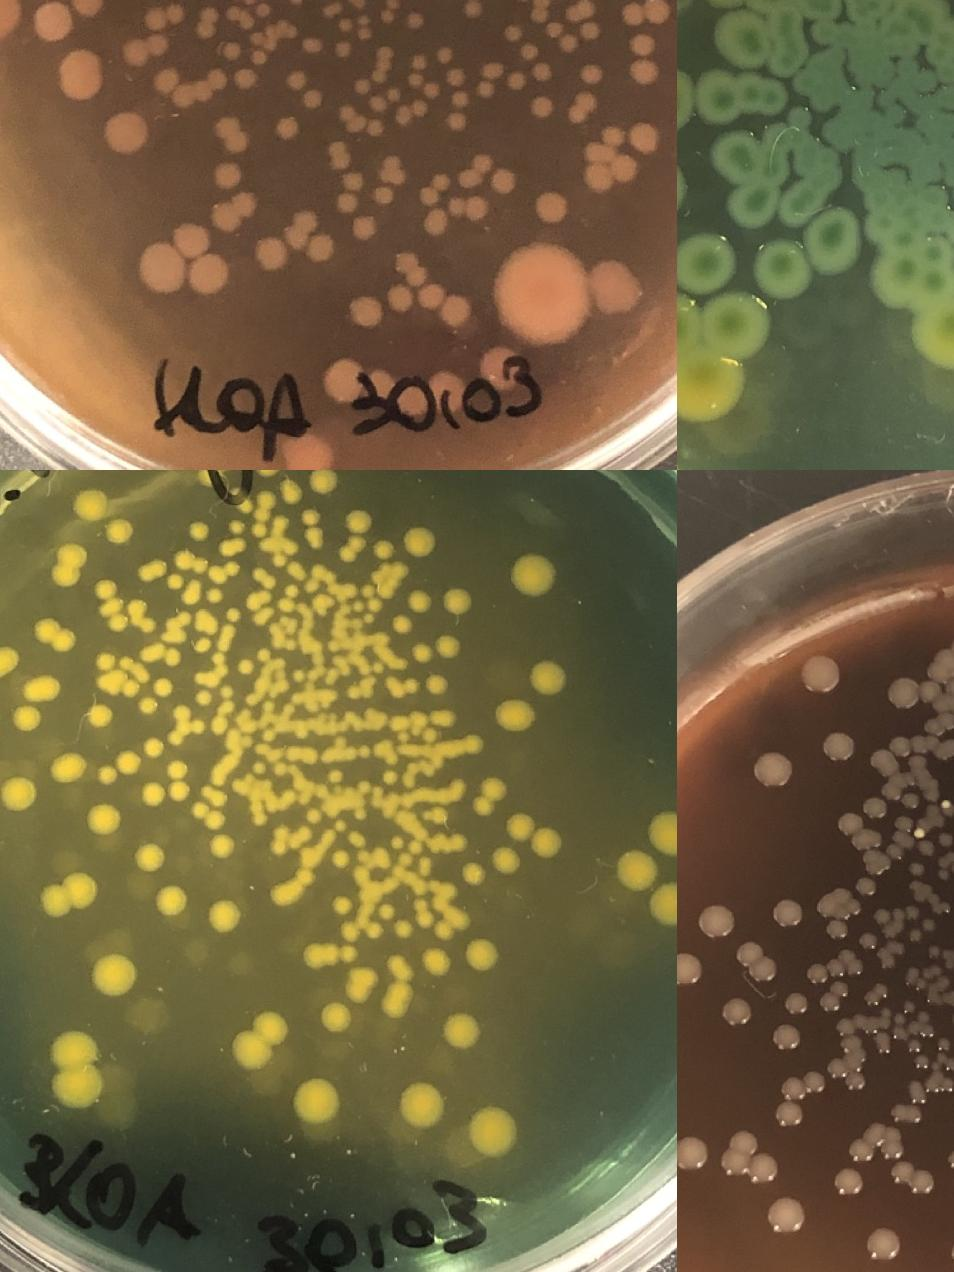assalmonicida: (887, 659, 954, 735), (839, 814, 895, 896), (808, 948, 864, 1012), (721, 1128, 779, 1184), (886, 903, 939, 957), (904, 1021, 954, 1072), (816, 886, 863, 939), (862, 1222, 904, 1264), (767, 1196, 809, 1238), (890, 1158, 937, 1195), (736, 942, 778, 983), (753, 750, 793, 790), (799, 654, 839, 694), (828, 1054, 864, 1091), (820, 729, 856, 764), (698, 906, 734, 940), (917, 830, 954, 856), (677, 1137, 706, 1170), (677, 953, 703, 988), (863, 981, 892, 1010), (834, 1167, 862, 1195), (772, 1100, 800, 1128), (772, 1022, 800, 1050), (722, 996, 750, 1024), (784, 989, 812, 1017), (774, 898, 802, 926), (870, 904, 890, 925), (860, 930, 880, 950), (864, 796, 884, 816), (836, 1019, 856, 1038), (900, 996, 920, 1015), (922, 942, 941, 962), (908, 858, 928, 877), (894, 813, 914, 832), (905, 792, 924, 812), (784, 1078, 802, 1098), (806, 1071, 824, 1091), (890, 736, 910, 754), (884, 1124, 902, 1142), (912, 1088, 930, 1106), (942, 988, 954, 1008), (942, 739, 954, 757), (947, 1151, 954, 1169)
pddamselae: (490, 238, 596, 352), (152, 68, 228, 110), (542, 0, 601, 54), (97, 106, 155, 160), (393, 82, 441, 126), (472, 155, 520, 196), (31, 0, 73, 44), (628, 31, 660, 86), (121, 34, 170, 67), (142, 3, 188, 32), (348, 294, 384, 330), (438, 292, 472, 328), (254, 235, 288, 271), (534, 190, 568, 226), (626, 120, 660, 156), (445, 66, 472, 110), (418, 172, 451, 207), (348, 212, 382, 244), (0, 0, 24, 43), (384, 282, 416, 314), (211, 160, 243, 192), (582, 165, 616, 194), (638, 0, 671, 27), (274, 114, 302, 142), (234, 67, 262, 93), (222, 130, 250, 154), (529, 96, 555, 121), (465, 195, 489, 221), (71, 0, 105, 17), (530, 61, 554, 85), (335, 191, 359, 214), (302, 88, 324, 112), (286, 68, 308, 92), (193, 18, 217, 40), (379, 0, 401, 24), (356, 13, 372, 44), (473, 80, 494, 102), (462, 0, 485, 20), (372, 186, 394, 206), (580, 64, 602, 84), (408, 52, 430, 72), (433, 46, 455, 66), (405, 12, 426, 32), (505, 72, 527, 90), (366, 119, 386, 138), (445, 114, 466, 132), (504, 23, 522, 43), (385, 86, 403, 104), (249, 50, 267, 68), (520, 43, 538, 61), (334, 40, 352, 58), (337, 16, 355, 34), (354, 78, 370, 96), (256, 4, 272, 18), (533, 0, 551, 11)
valgino: (677, 293, 768, 421)
vharveyi: (616, 807, 677, 927), (71, 484, 137, 549), (231, 1007, 290, 1071), (503, 550, 563, 604), (189, 798, 237, 865), (464, 1104, 520, 1160), (87, 947, 142, 1003), (288, 1072, 342, 1128), (49, 1060, 103, 1116), (504, 809, 563, 859), (39, 868, 99, 916), (396, 1078, 452, 1128), (434, 1008, 490, 1056), (140, 758, 191, 808), (419, 917, 456, 978), (494, 691, 538, 741), (50, 538, 90, 592), (410, 628, 466, 665), (338, 506, 373, 564), (95, 748, 141, 789), (0, 770, 40, 815), (462, 934, 502, 976), (204, 898, 244, 940), (82, 796, 122, 838), (529, 654, 569, 696), (151, 881, 191, 922), (300, 940, 358, 968), (438, 580, 478, 620), (34, 616, 76, 654), (472, 774, 508, 818), (401, 520, 437, 560), (381, 979, 413, 1023), (351, 584, 384, 626), (249, 489, 276, 539), (320, 1000, 354, 1034), (488, 842, 522, 876), (134, 841, 167, 876), (12, 704, 44, 738), (172, 546, 210, 574), (82, 698, 114, 730), (402, 674, 448, 696), (308, 470, 340, 497), (278, 478, 305, 506), (249, 566, 278, 592), (278, 582, 300, 616), (406, 588, 434, 614), (91, 574, 117, 602), (186, 518, 212, 546), (460, 730, 486, 757), (460, 862, 488, 886), (389, 613, 415, 637), (392, 918, 416, 942), (142, 735, 166, 759), (136, 696, 160, 720), (152, 674, 176, 698), (330, 894, 354, 917), (218, 684, 235, 716), (370, 538, 394, 560), (298, 506, 322, 528), (94, 651, 116, 672), (192, 635, 214, 655), (108, 614, 130, 634), (164, 572, 186, 592), (224, 517, 246, 537), (364, 921, 384, 942), (330, 849, 350, 869), (387, 832, 407, 852), (430, 805, 450, 825), (248, 759, 270, 777), (204, 588, 226, 606), (222, 560, 242, 579), (324, 766, 345, 784), (382, 768, 400, 788), (306, 536, 326, 554), (378, 902, 396, 921), (356, 744, 374, 762), (422, 726, 440, 744), (306, 806, 323, 825), (191, 718, 207, 735), (255, 646, 270, 664), (167, 730, 183, 746), (173, 706, 189, 722), (195, 690, 211, 706), (225, 607, 241, 622), (254, 470, 284, 478), (238, 660, 254, 674), (292, 668, 306, 683), (334, 820, 346, 834)
